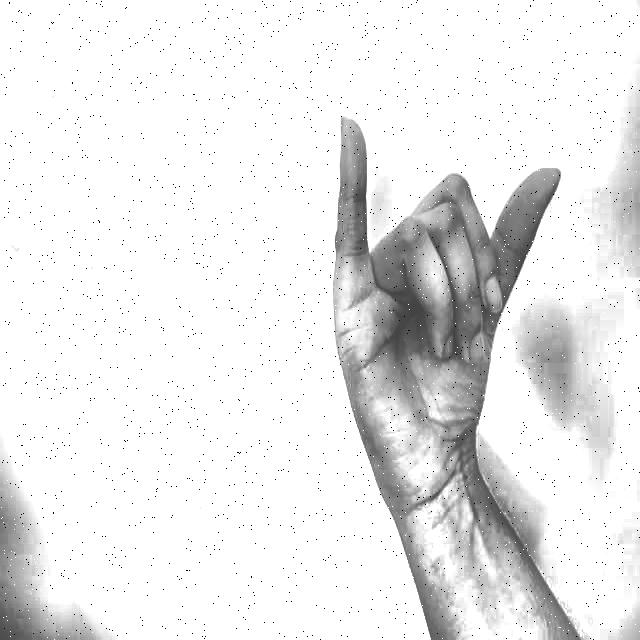Oi: (303, 90, 586, 512)
